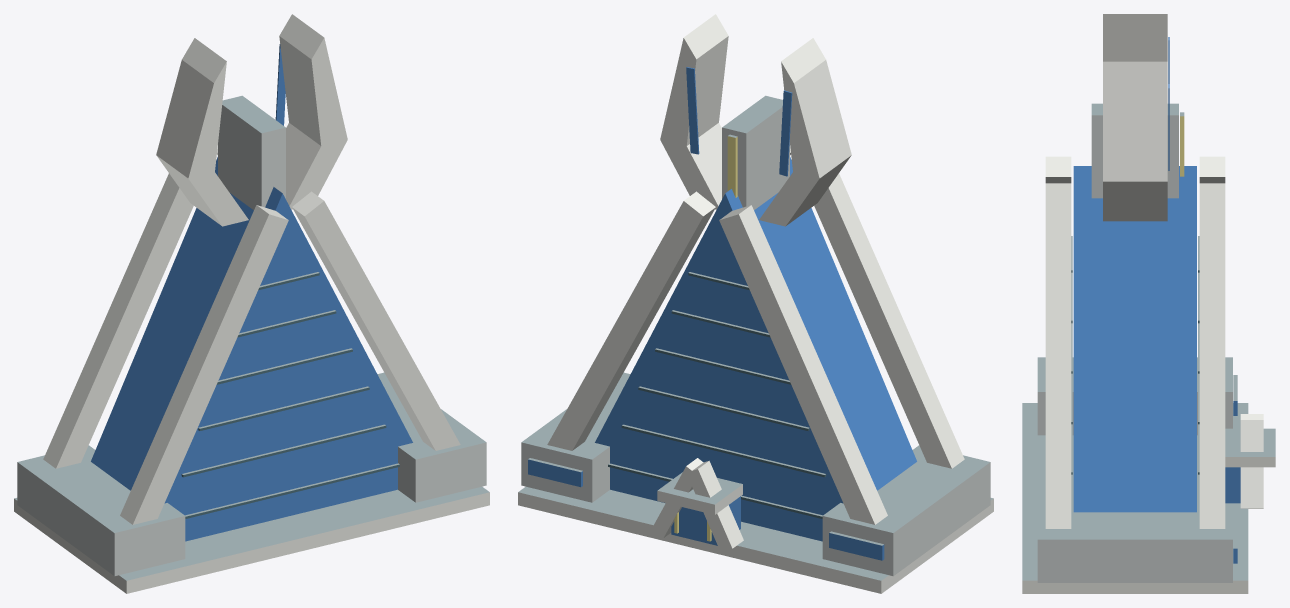
The model's file is TriangularHQ.obj.
The picture shows the model from 3 angles, left to right: view 1: azimuth 30°, elevation 25°; view 2: azimuth 150°, elevation 25°; view 3: azimuth 270°, elevation 25°; orthographic projection.
Size of the model in its own units: 0.8304 by 1 by 0.4874.
